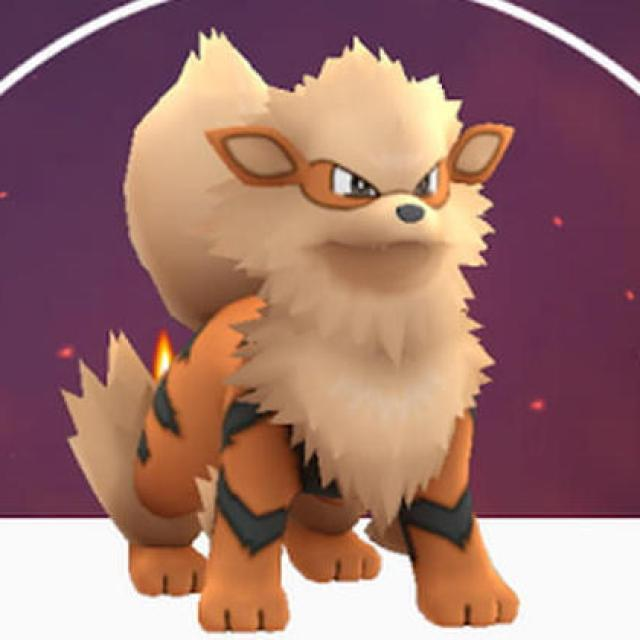Arcanine: (116, 44, 523, 624)
